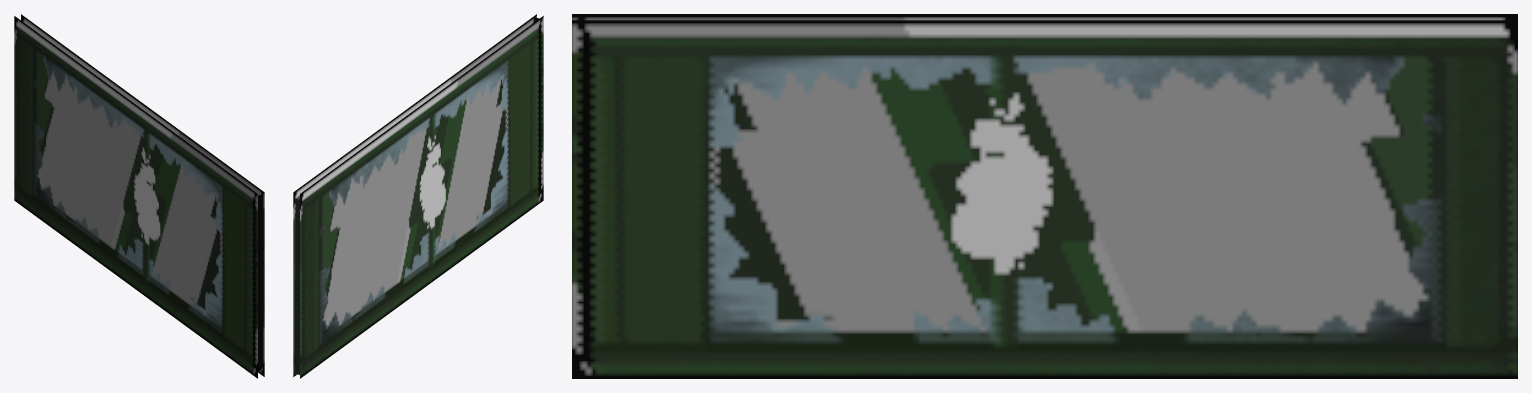
The model's file is pz_native_location_shop_greenes_01_70_frame.obj.
The picture shows the model from 3 angles, left to right: view 1: azimuth 30°, elevation 25°; view 2: azimuth 150°, elevation 25°; view 3: azimuth 270°, elevation 25°; orthographic projection. The views are drawn at different scales.
Visible parts, largest first — view 1: pz_native_location_shop_greenes_01_70_frame; view 2: pz_native_location_shop_greenes_01_70_frame; view 3: pz_native_location_shop_greenes_01_70_frame.
Boxes of the visible parts, x1=… form: pz_native_location_shop_greenes_01_70_frame: x1=14, y1=14, x2=264, y2=378; pz_native_location_shop_greenes_01_70_frame: x1=293, y1=14, x2=543, y2=378; pz_native_location_shop_greenes_01_70_frame: x1=572, y1=14, x2=1517, y2=378.
Bounding box in the file's own units: 0.04 × 1.06 × 2.54.
1 material, 1 textured.
